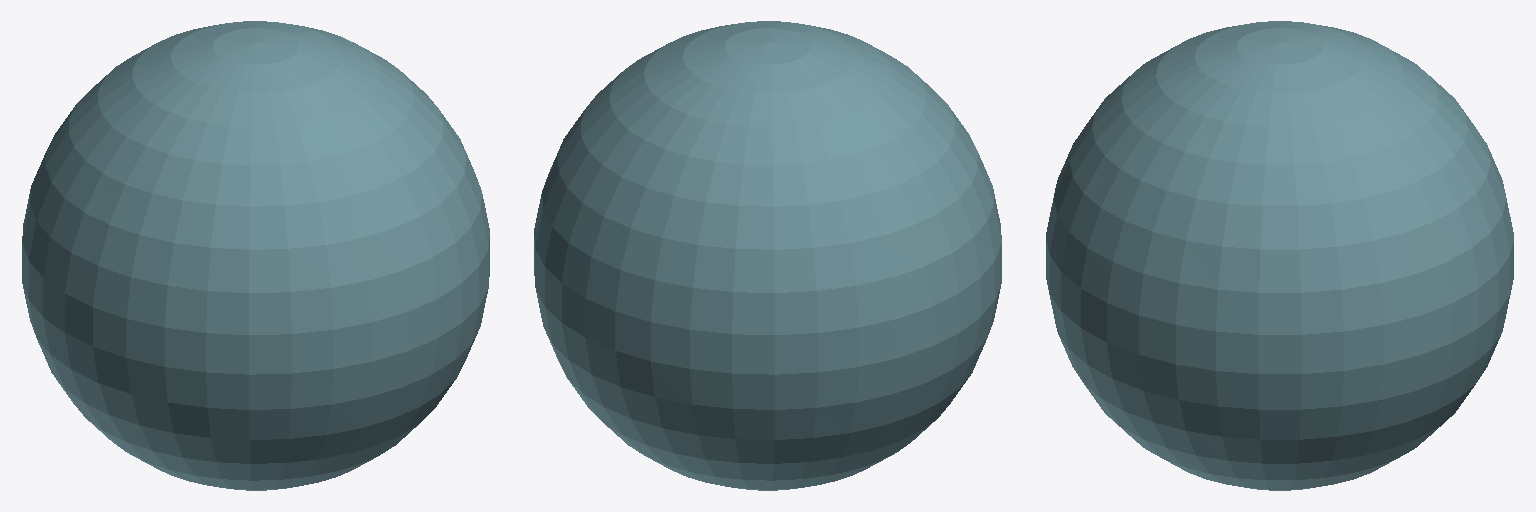
File: glass.obj
The picture shows the model from 3 angles: view 1: azimuth 30°, elevation 25°; view 2: azimuth 150°, elevation 25°; view 3: azimuth 270°, elevation 25°; orthographic projection.
Visible parts, largest first — view 1: sphere; view 2: sphere; view 3: sphere.
Part boxes in pixels (left/top/right/bottom): sphere: left=22, top=21, right=489, bottom=490; sphere: left=534, top=21, right=1001, bottom=490; sphere: left=1046, top=21, right=1513, bottom=490.
Bounding box in the file's own units: 0.4637 × 0.4677 × 0.4657.